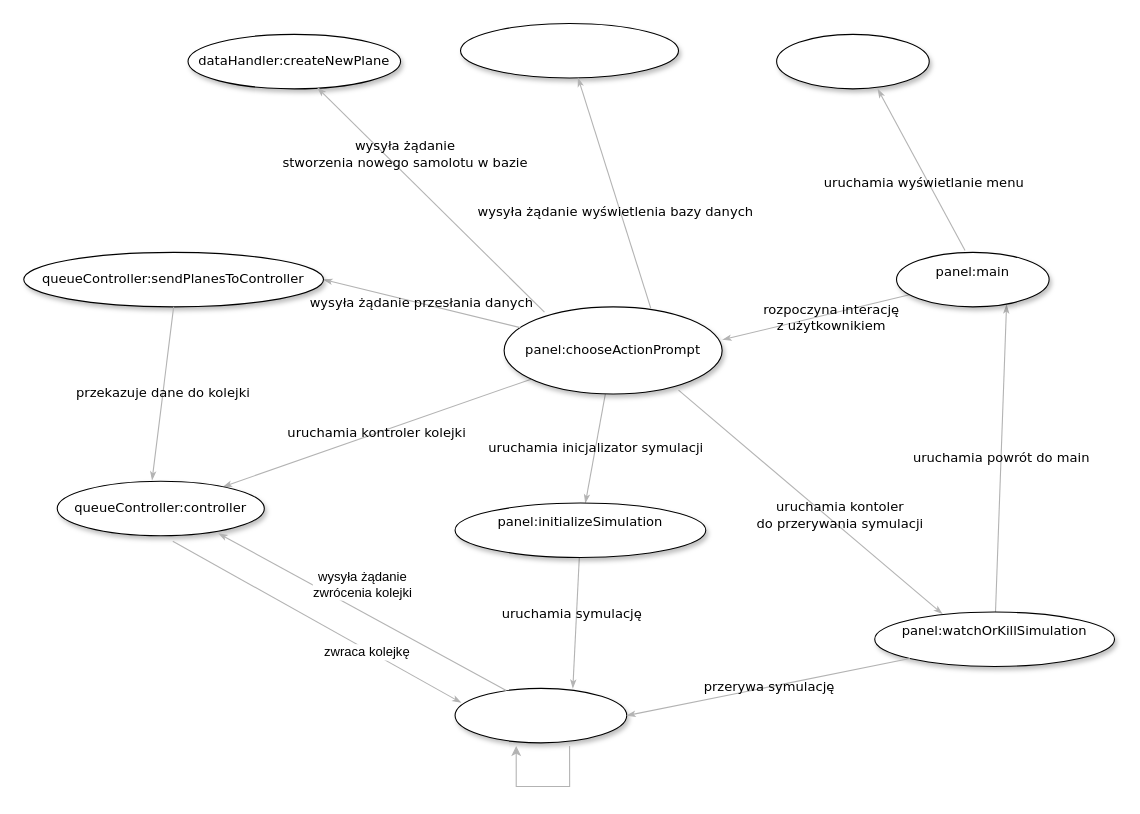
This 1140x814 diagram has some shape labels left out. Each missing label, with the centre of its shape:
"dataHandler:printAllPlanes" belongs at [570,52].
"panel:options" belongs at [853,62].
"panel:simulate" belongs at [541,716].
